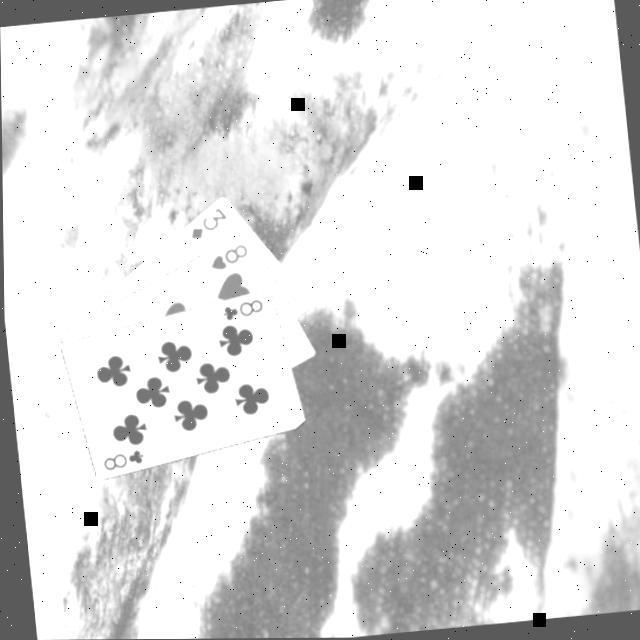3D: (184, 201, 231, 241)
8C: (218, 293, 267, 322), (98, 444, 147, 472)
8H: (204, 238, 252, 273)
